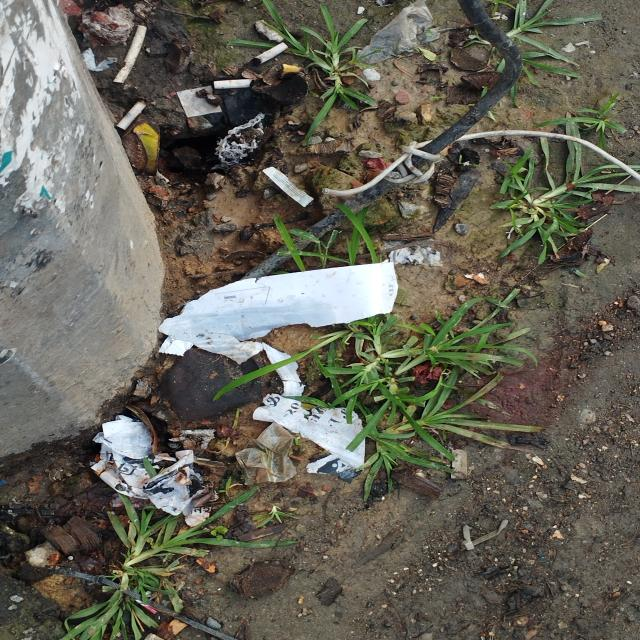paper: (161, 265, 399, 363)
